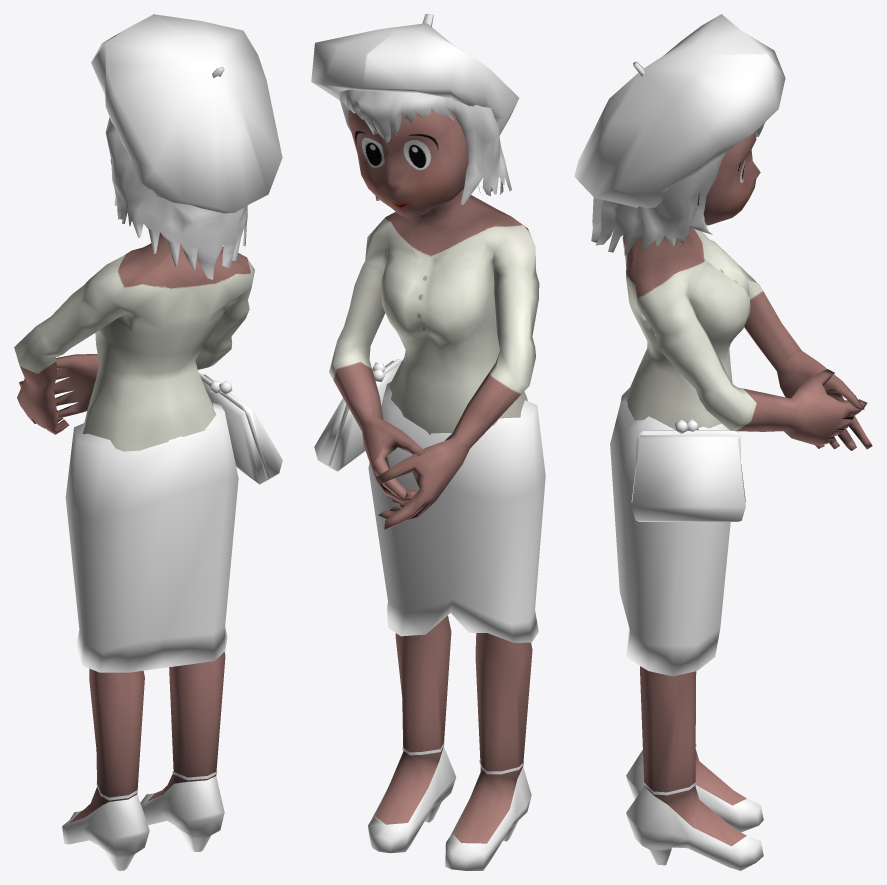
Rendered from stklib_silvianGirl_a_main.glb.
3 views of the same model, side by side, from view 1: azimuth 30°, elevation 25°; view 2: azimuth 150°, elevation 25°; view 3: azimuth 270°, elevation 25° (orthographic). The views are drawn at different scales.
Parts seen in each view (by area): view 1: stk_generic_paper_a.png__, stktex_silvianGirlBody_a.jpg__, stkflag_leatherPatern_a.png__, ___, stk_lightGrayMetal_a.png__; view 2: stktex_silvianGirlBody_a.jpg__, stk_generic_paper_a.png__, stktex_silvianGirlFace_a.jpg__, stkflag_leatherPatern_a.png__, ___; view 3: stk_generic_paper_a.png__, stktex_silvianGirlBody_a.jpg__, stkflag_leatherPatern_a.png__, ___, stktex_silvianGirlFace_a.jpg__, stk_lightGrayMetal_a.png__.
Boxes of the visible parts, x1,y1,x2,y2 form: stk_generic_paper_a.png__: (65,14,282,672); stktex_silvianGirlBody_a.jpg__: (14,232,254,822); stkflag_leatherPatern_a.png__: (62,374,282,870); ___: (105,67,247,279); stk_lightGrayMetal_a.png__: (199,373,269,478); stktex_silvianGirlBody_a.jpg__: (329,188,539,843); stk_generic_paper_a.png__: (311,23,545,642); stktex_silvianGirlFace_a.jpg__: (348,107,468,217); stkflag_leatherPatern_a.png__: (314,360,531,870); ___: (339,14,511,205); stk_generic_paper_a.png__: (574,14,785,676); stktex_silvianGirlBody_a.jpg__: (622,226,872,846); stkflag_leatherPatern_a.png__: (626,435,763,870); ___: (591,61,765,255); stktex_silvianGirlFace_a.jpg__: (697,132,760,225); stk_lightGrayMetal_a.png__: (636,430,740,465).
Bounding box in the file's own units: 0.5105 × 1.74 × 0.5771.
7 materials, 2 textured.
